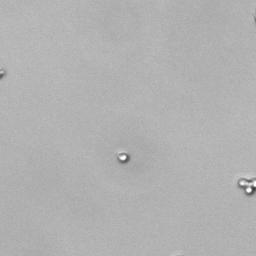cluster: (236, 173, 256, 197)
individual: (117, 152, 129, 162)
